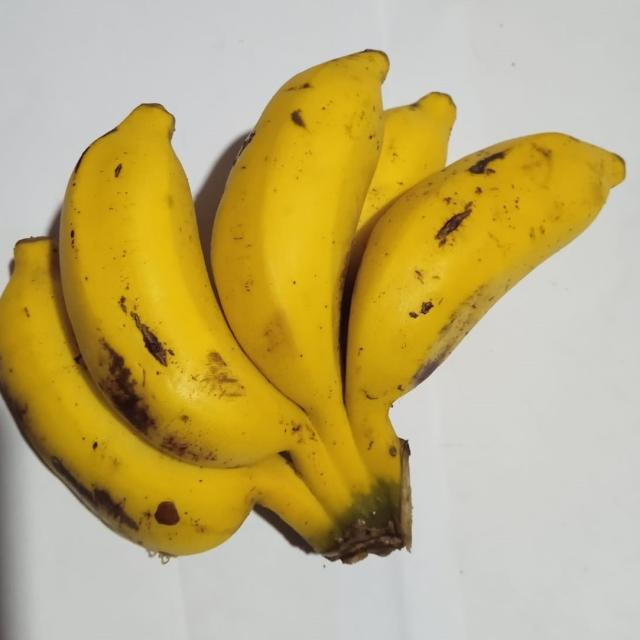banana: (60, 104, 351, 513), (0, 238, 335, 555), (346, 134, 624, 479), (211, 51, 388, 494), (341, 93, 456, 345), (348, 93, 456, 283)
